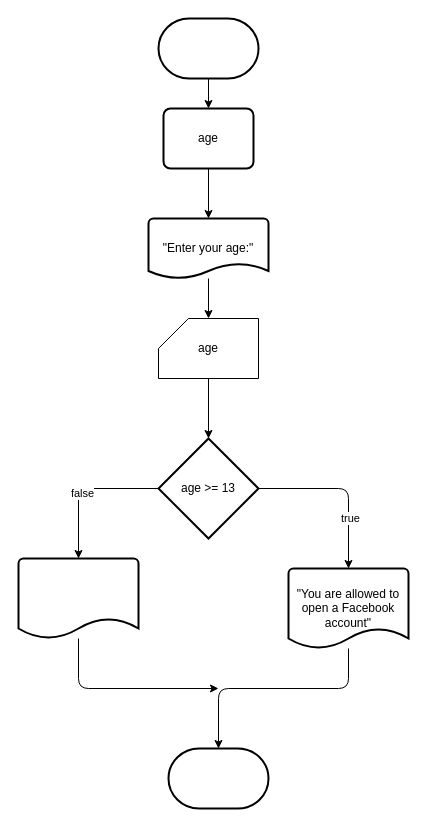
Image size: 426x826. Some labels were removed from this diagram. Here are the shapes that lost their labels. From the top down, the centre of each, then its label:
point 208,48: Start
point 78,598: "You are not allowed to open a Facebook account"
point 218,778: Stop
